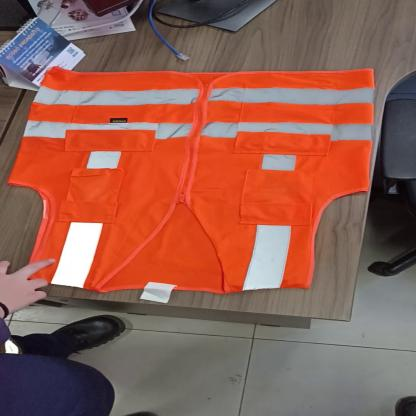colete: (5, 63, 378, 292)
